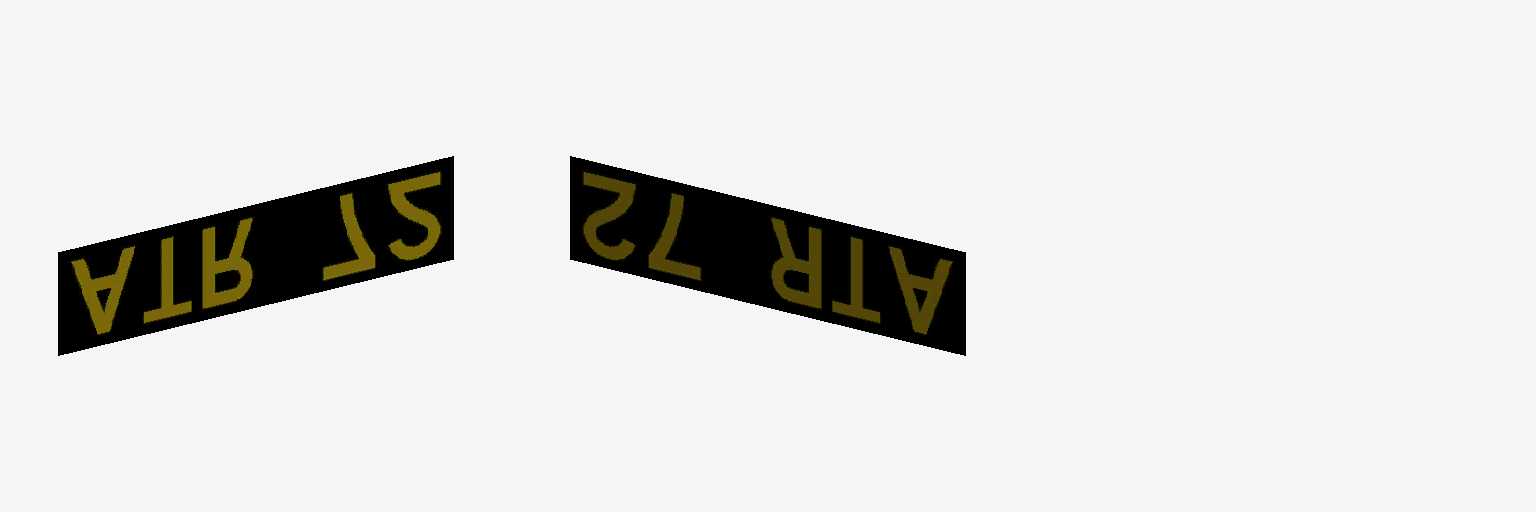
3 renders of one model, left to right at view 1: azimuth 30°, elevation 25°; view 2: azimuth 150°, elevation 25°; view 3: azimuth 270°, elevation 25°, orthographic.
Visible parts, largest first — view 1: node1; view 2: node1; view 3: none.
Boxes of the visible parts, x1,y1,x2,y2 form: node1: [58, 156, 453, 355]; node1: [570, 156, 965, 355].
Size of the model in its own units: 16 by 4 by 0.
1 materials, 1 textured.